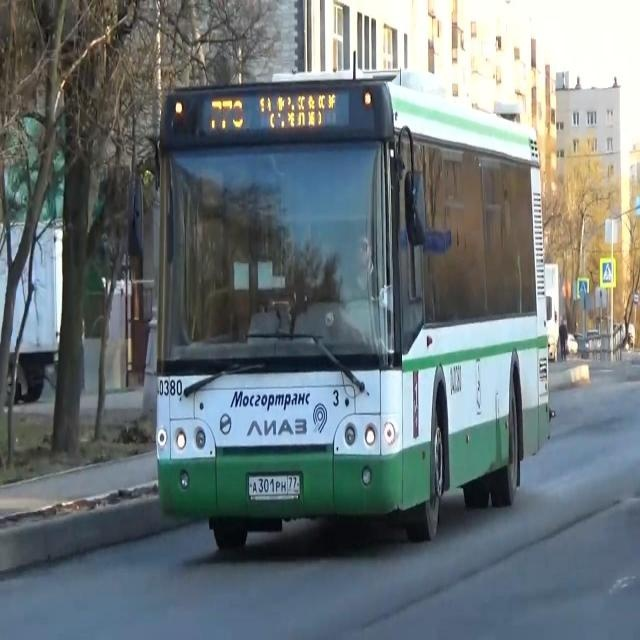Bus: (138, 56, 560, 560)
